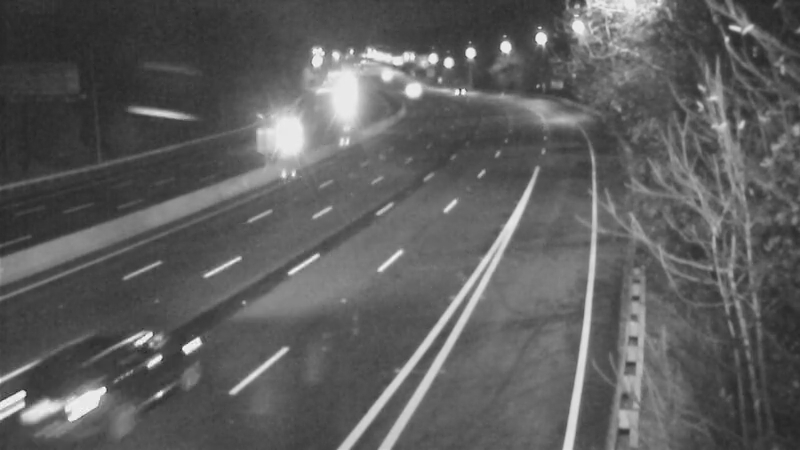vehicle: (49, 317, 159, 427), (424, 67, 474, 117), (381, 61, 431, 111), (259, 111, 309, 161), (318, 76, 368, 126)
